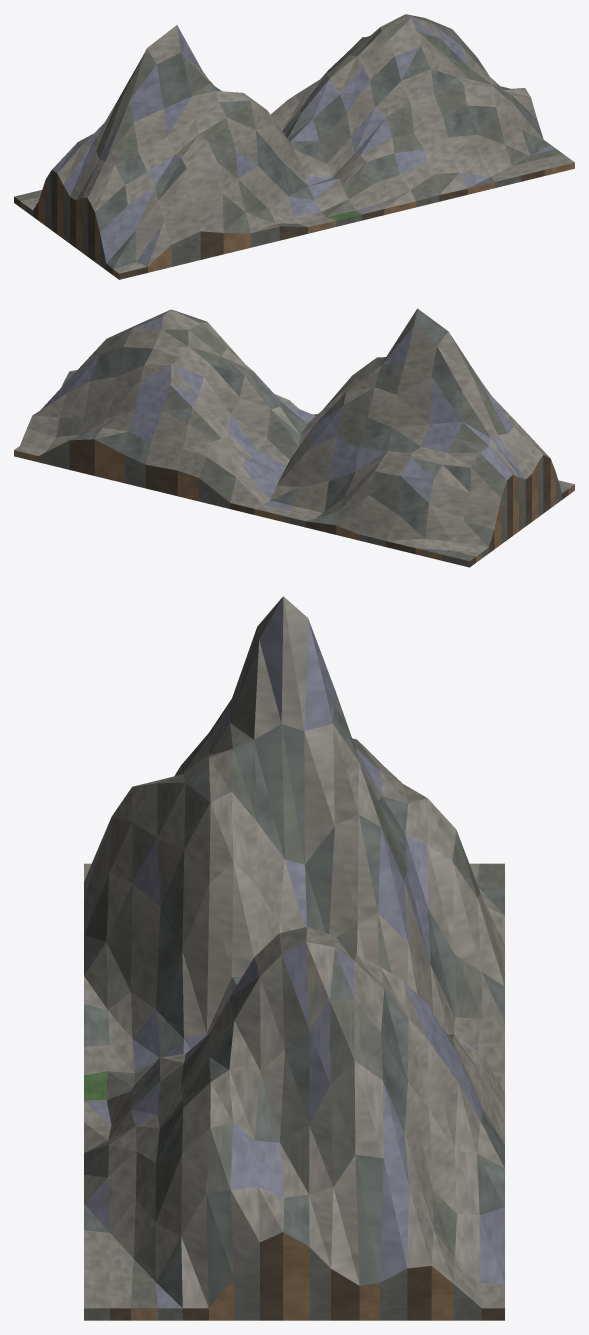
The model's file is mountain_far_01.fbx.
3 views of the same model, one above another, from view 1: azimuth 30°, elevation 25°; view 2: azimuth 150°, elevation 25°; view 3: azimuth 270°, elevation 25° (orthographic). The views are drawn at different scales.
Visible parts, largest first — view 1: mountain_far_01; view 2: mountain_far_01; view 3: mountain_far_01.
Part boxes in pixels (x1,y1,x2,y2): mountain_far_01: [14, 14, 574, 279]; mountain_far_01: [14, 308, 574, 567]; mountain_far_01: [84, 596, 504, 1320].
Size of the model in its own units: 15000 by 6050 by 6000.
1 material, 1 textured.
